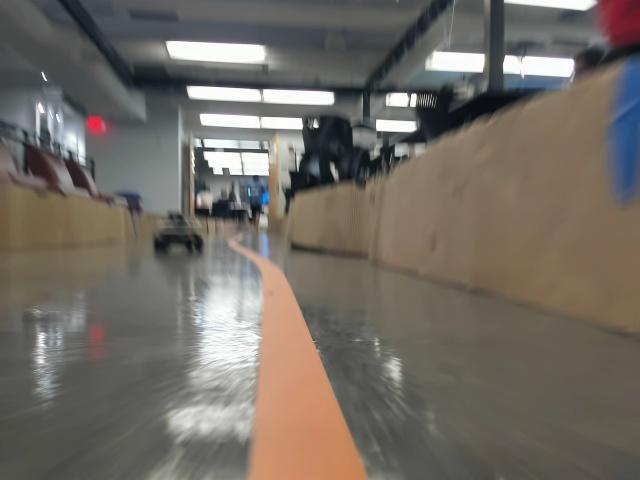Car: (153, 214, 202, 249)
